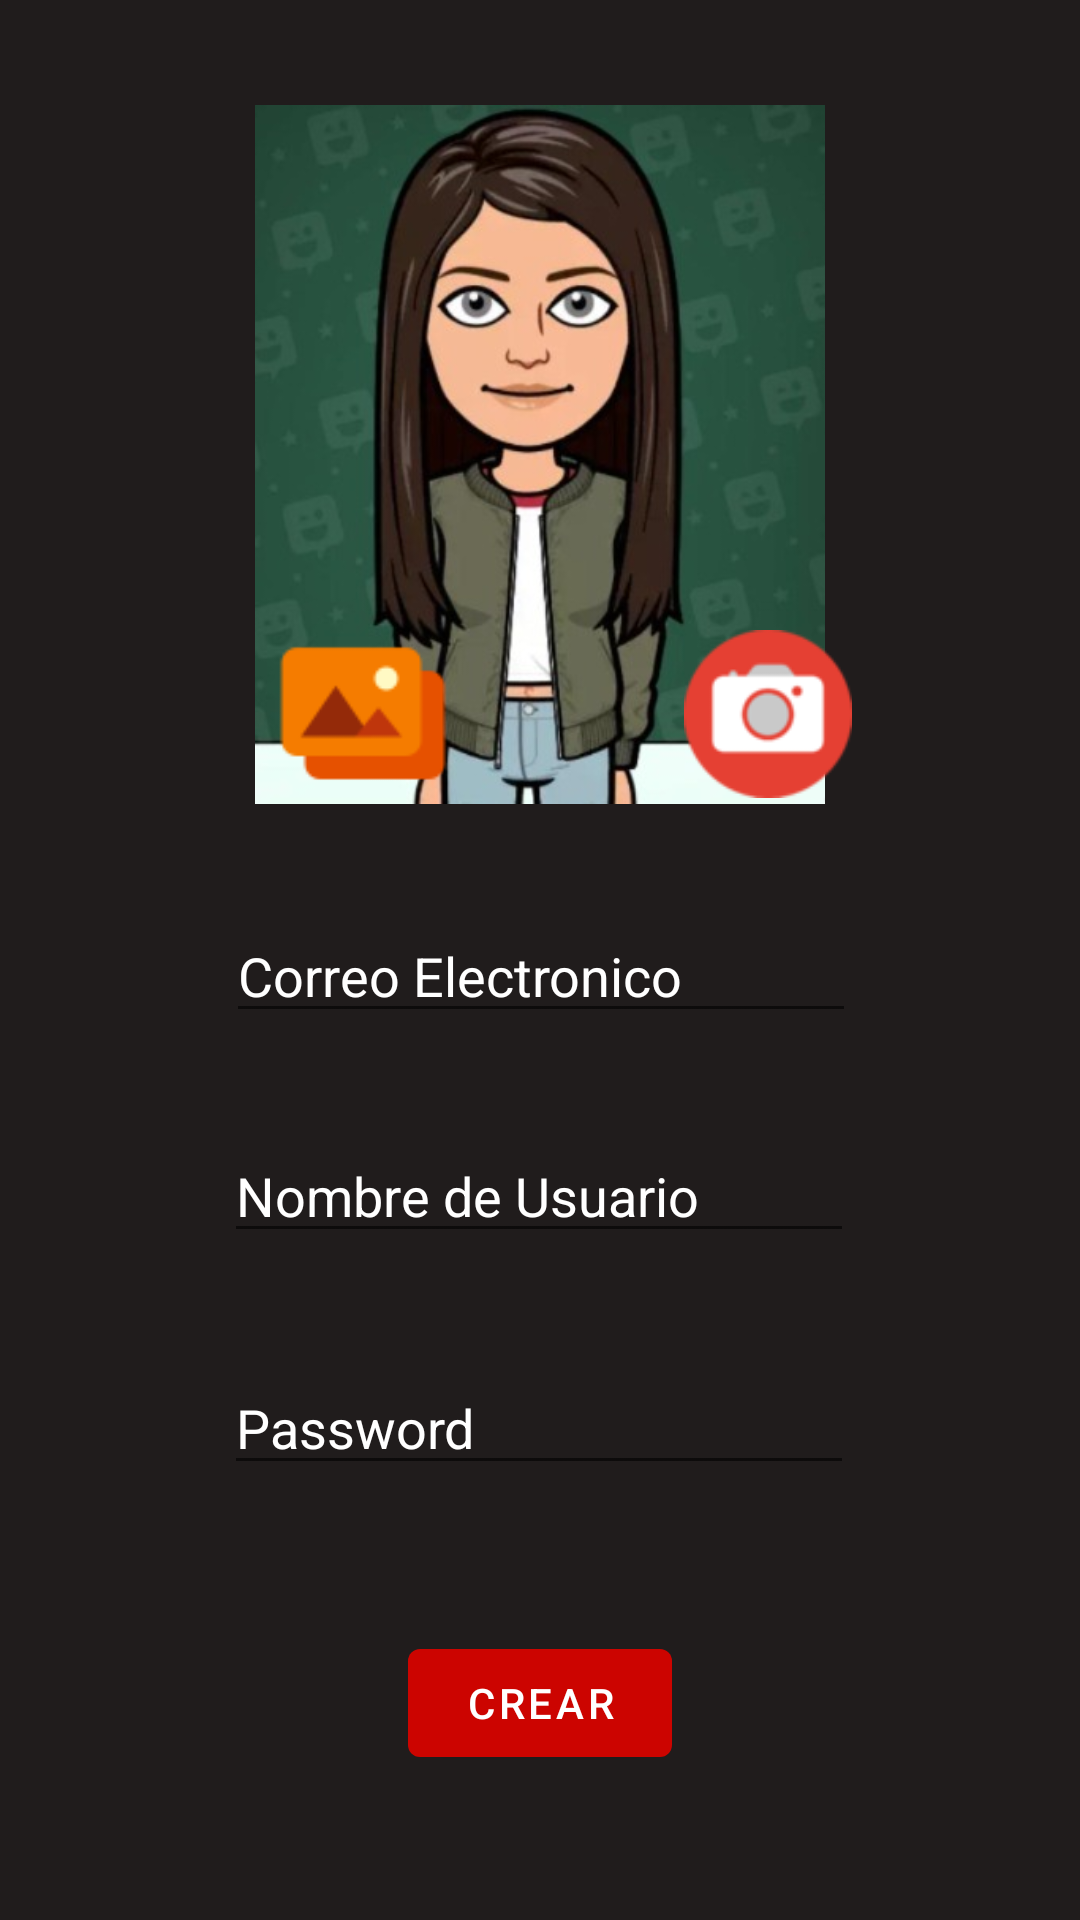

Icon click points for this 1080*1920 phone screenshot, format point (x, y):
camera photos photo: point (768, 714)
gallery: point (363, 709)
